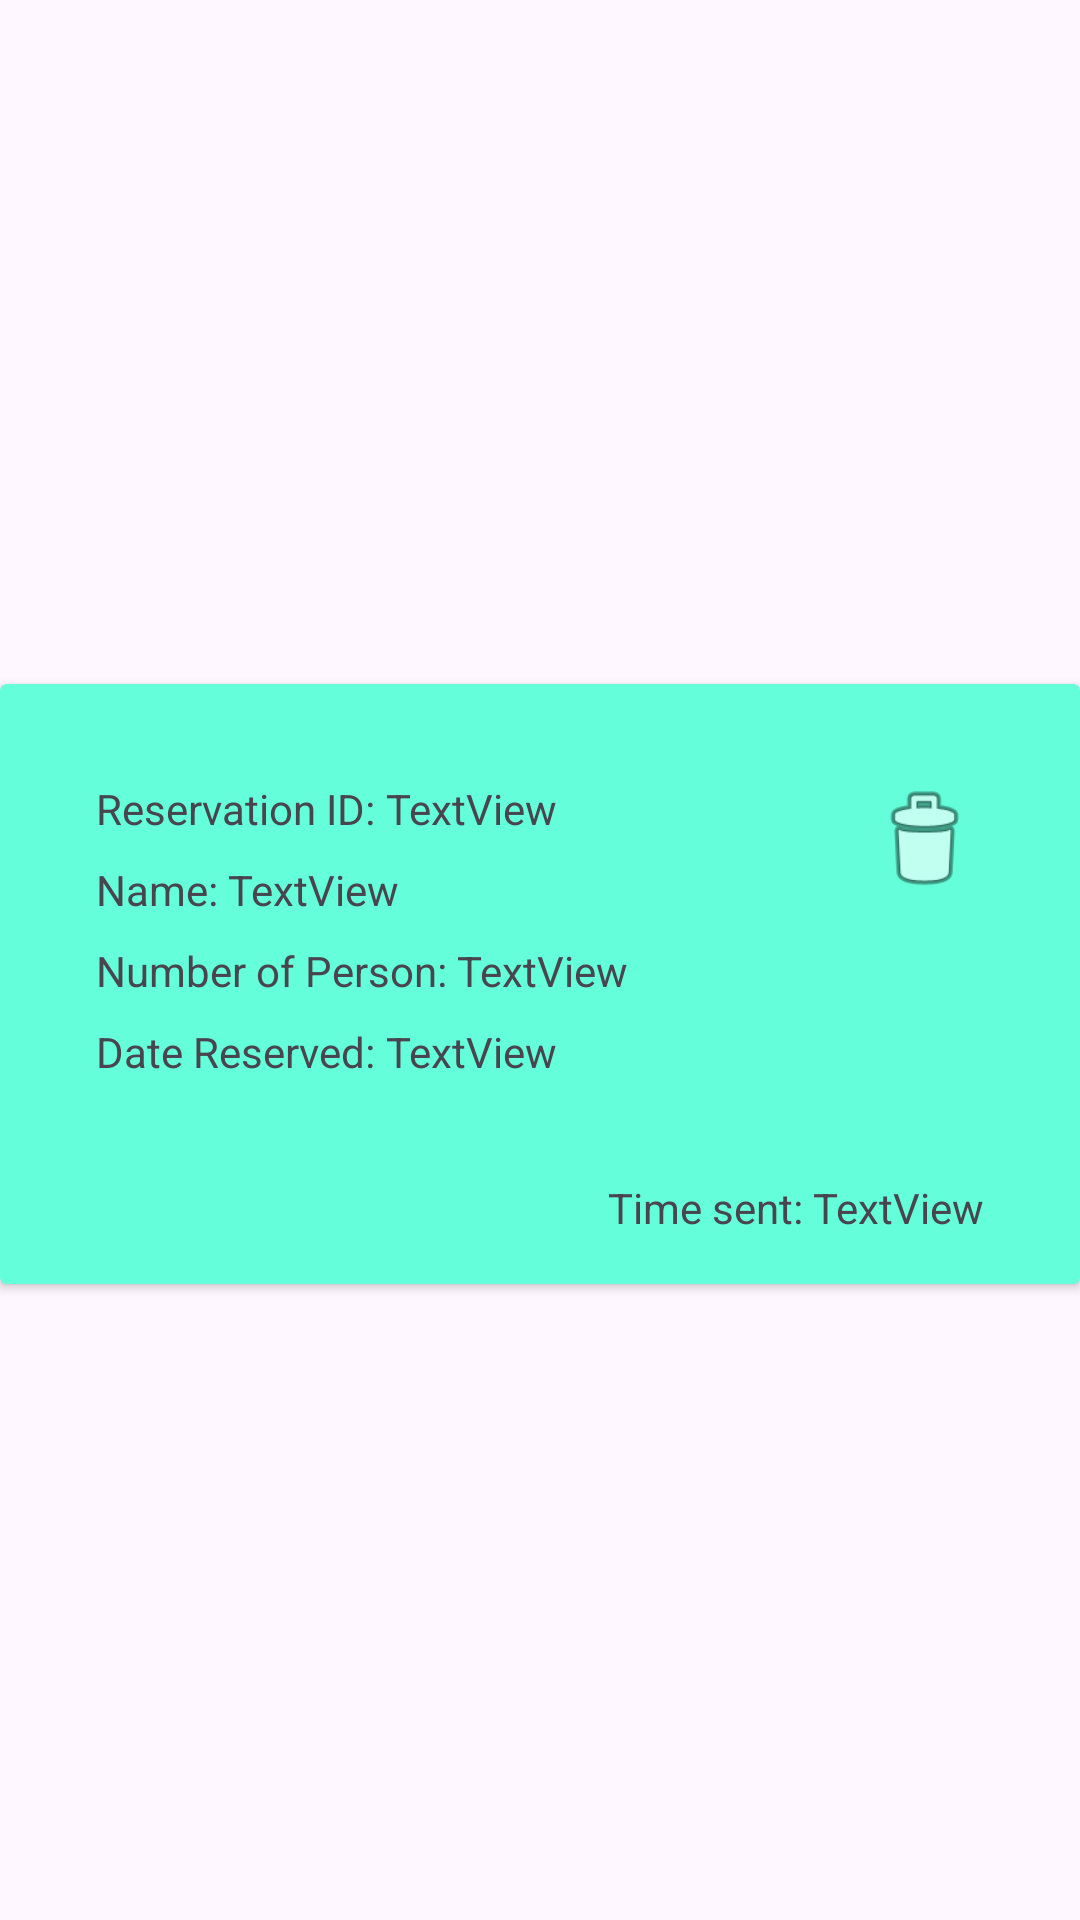

Named icons in this screenshot (1080w x 1920h) and their centers, point (x, y):
delete: point (925, 838)
